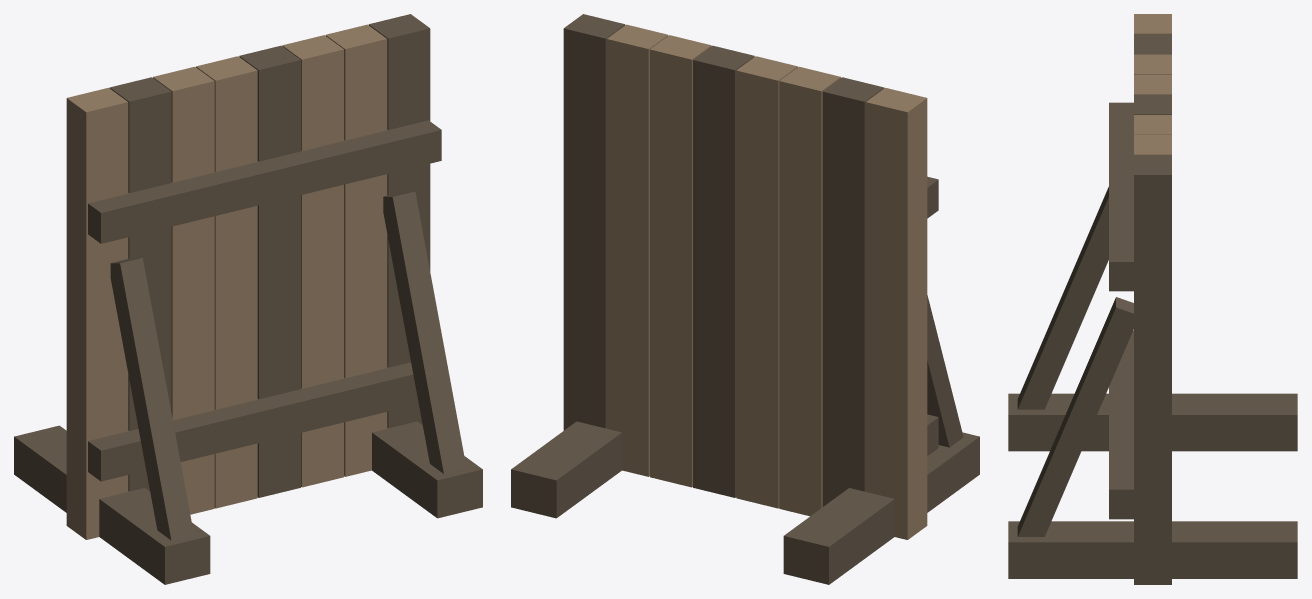
Rendered from Craft_Wall.fbx.
3 renders of one model, left to right at view 1: azimuth 30°, elevation 25°; view 2: azimuth 150°, elevation 25°; view 3: azimuth 270°, elevation 25°, orthographic. The views are drawn at different scales.
Parts seen in each view (by area): view 1: Craft_Wall; view 2: Craft_Wall; view 3: Craft_Wall.
Part boxes in pixels (x1,y1,x2,y2): Craft_Wall: (14,14,482,584); Craft_Wall: (511,14,979,584); Craft_Wall: (1008,14,1297,584).
Size of the model in its own units: 1.51 by 1.8 by 1.15.
